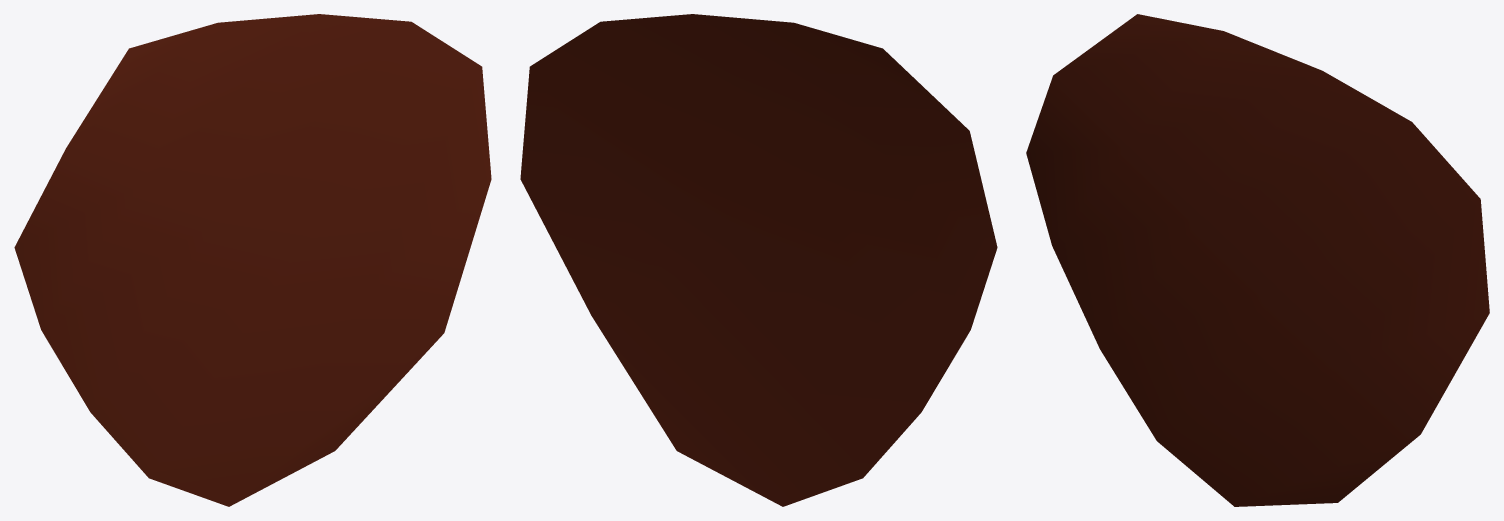
The model's file is finch_feather_flight_tertiary_029.obj.
The picture shows the model from 3 angles, left to right: view 1: azimuth 30°, elevation 25°; view 2: azimuth 150°, elevation 25°; view 3: azimuth 330°, elevation 25°; orthographic projection. The views are drawn at different scales.
Visible parts, largest first — view 1: feather_flight_tertiary_029; view 2: feather_flight_tertiary_029; view 3: feather_flight_tertiary_029.
Part boxes in pixels (left/top/right/bottom): feather_flight_tertiary_029: left=14, top=14, right=491, bottom=506; feather_flight_tertiary_029: left=520, top=14, right=997, bottom=506; feather_flight_tertiary_029: left=1026, top=14, right=1489, bottom=506.
Size of the model in its own units: 0.00352 by 0.00343 by 0.000152.
